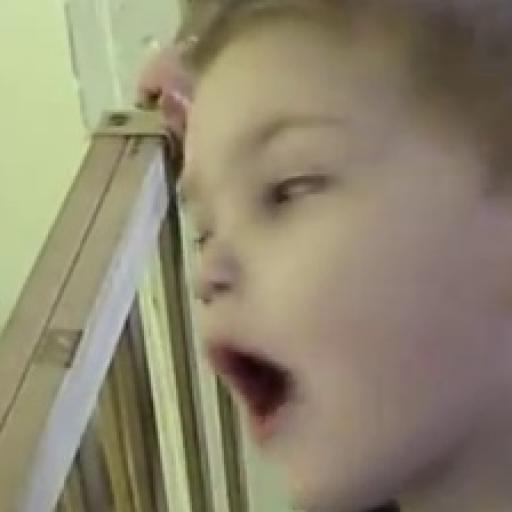Autism: (148, 19, 512, 512)
